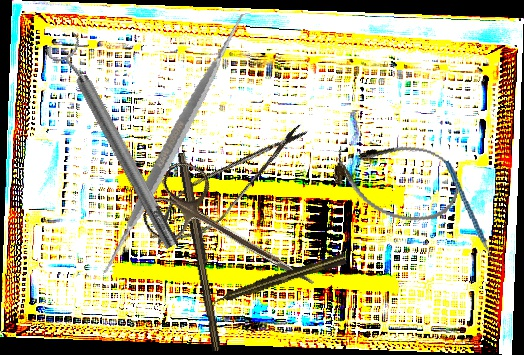Cannula: (326, 128, 467, 232)
Chopper: (444, 155, 505, 274)
Fixation Ring: (43, 31, 189, 256)
Handpiece: (209, 252, 348, 308)
Iris Scissors: (136, 155, 336, 316)
Micro Scissor: (137, 106, 320, 263)
Scalpel Handle: (173, 151, 228, 352)
Spatula Surgical: (40, 9, 309, 278)
